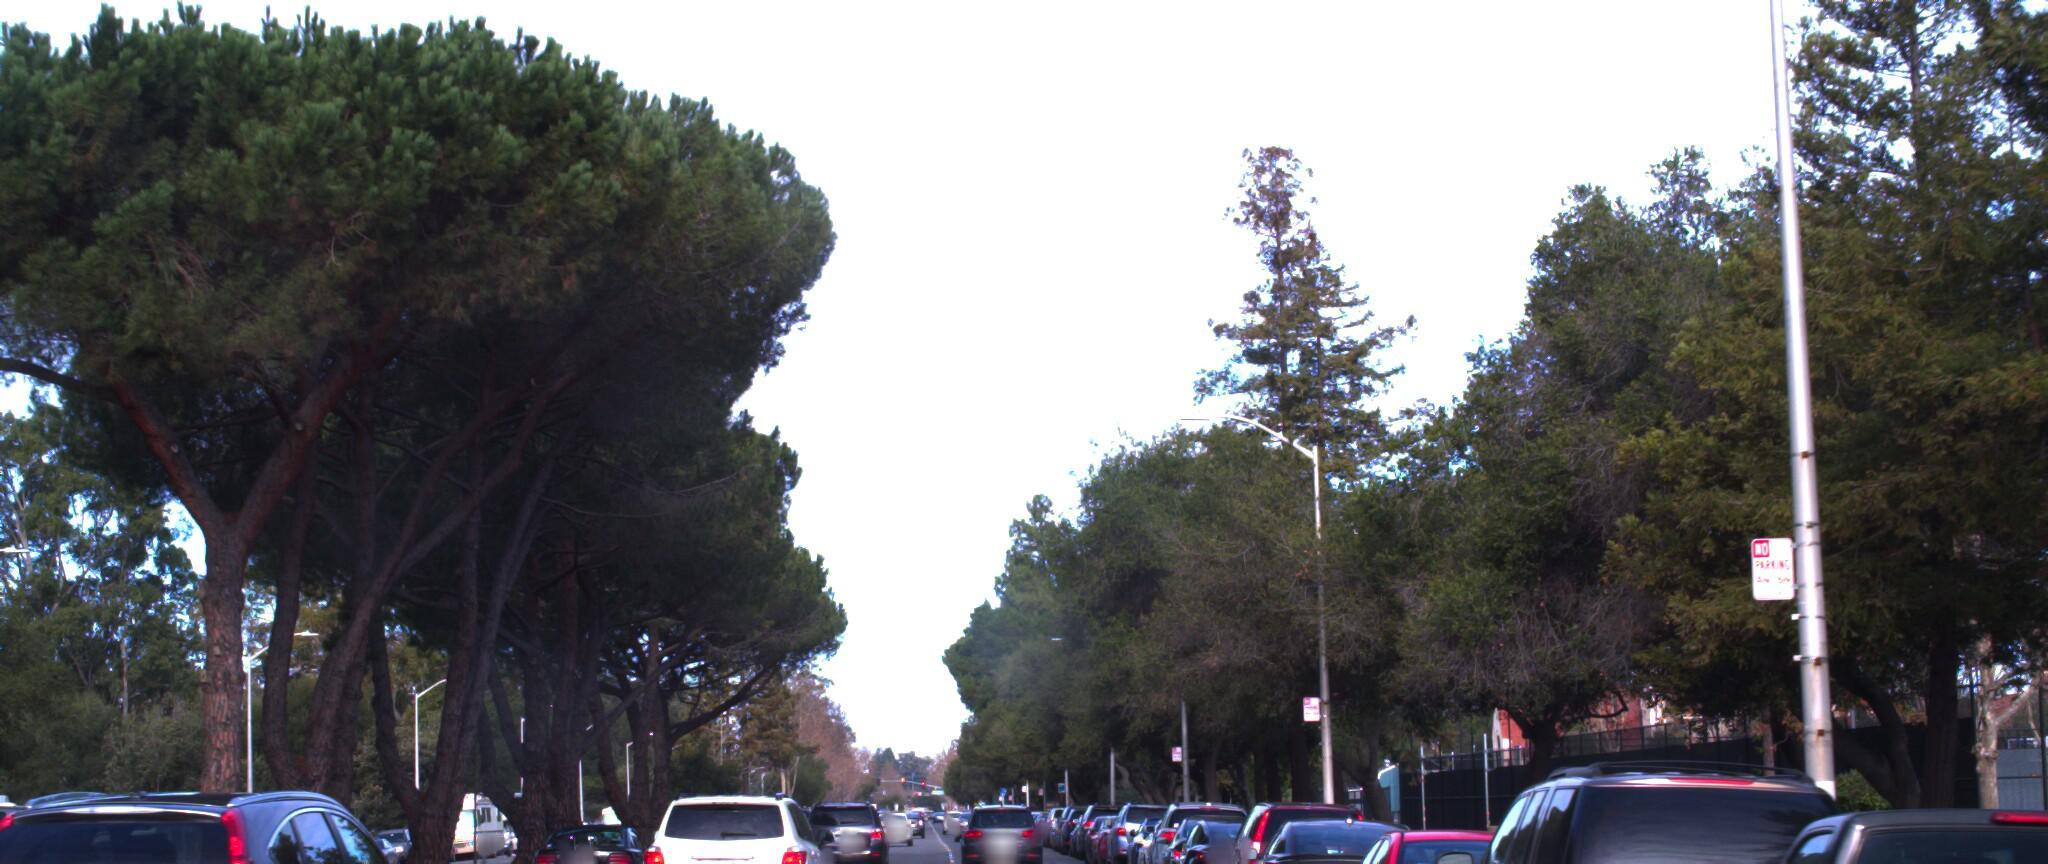car: (1411, 713, 1941, 864), (0, 743, 498, 864), (1600, 752, 2048, 864), (1302, 790, 1647, 864), (632, 765, 846, 864), (1216, 774, 1408, 864), (1234, 783, 1435, 864), (1174, 787, 1326, 864), (1149, 774, 1273, 864), (792, 767, 896, 860), (519, 803, 656, 864), (955, 783, 1042, 863)
other_vehicle: (0, 760, 121, 864)
